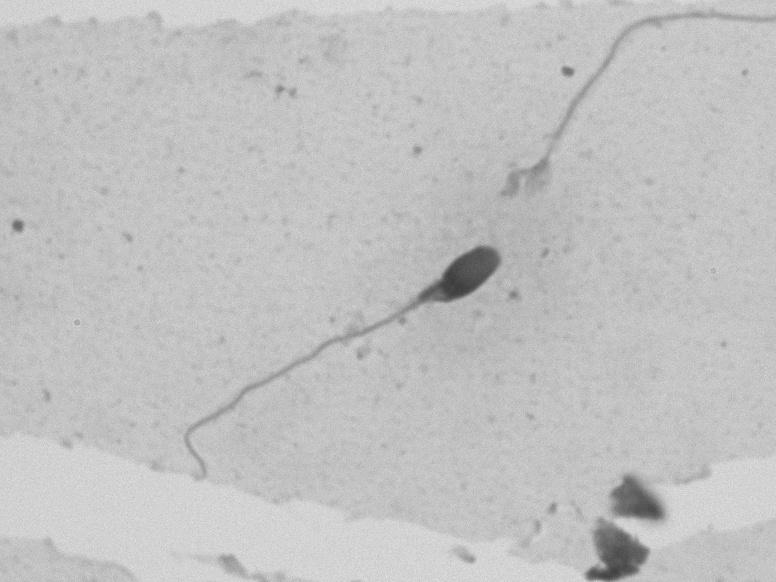Abnormal: (169, 215, 506, 472)
